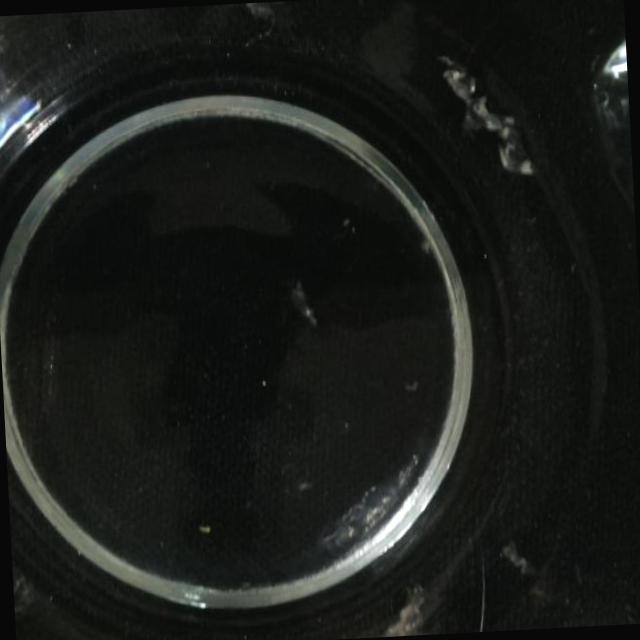fiber: (436, 48, 543, 180), (384, 578, 437, 636), (287, 278, 324, 329), (498, 536, 536, 580), (242, 5, 282, 42), (421, 237, 434, 255), (197, 522, 212, 536)
